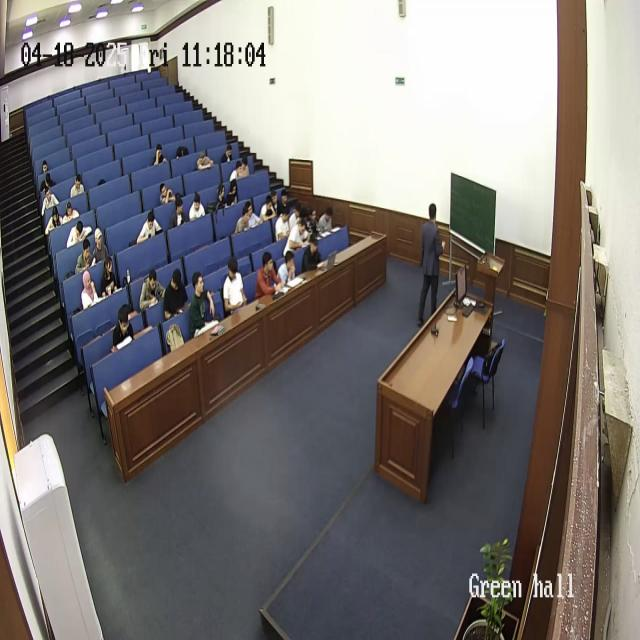person: (416, 204, 446, 326), (188, 271, 216, 337), (139, 268, 165, 326), (222, 257, 247, 315), (162, 268, 189, 319), (253, 250, 281, 298), (110, 303, 134, 351), (284, 217, 311, 255), (98, 255, 120, 298), (301, 235, 325, 273), (136, 208, 162, 243), (276, 250, 298, 289), (80, 271, 100, 309), (75, 237, 93, 276), (90, 225, 108, 263), (274, 206, 292, 244), (234, 201, 254, 235), (66, 219, 88, 249), (41, 184, 59, 220), (169, 200, 188, 229), (316, 206, 334, 236), (46, 202, 62, 235), (188, 192, 206, 220), (258, 197, 276, 224), (230, 158, 250, 180), (158, 180, 176, 204), (196, 146, 214, 170), (214, 183, 228, 212), (226, 180, 240, 207), (70, 174, 85, 198), (279, 190, 291, 220), (221, 142, 235, 164), (152, 145, 166, 165), (174, 145, 190, 160), (44, 171, 53, 186), (40, 160, 48, 172)
